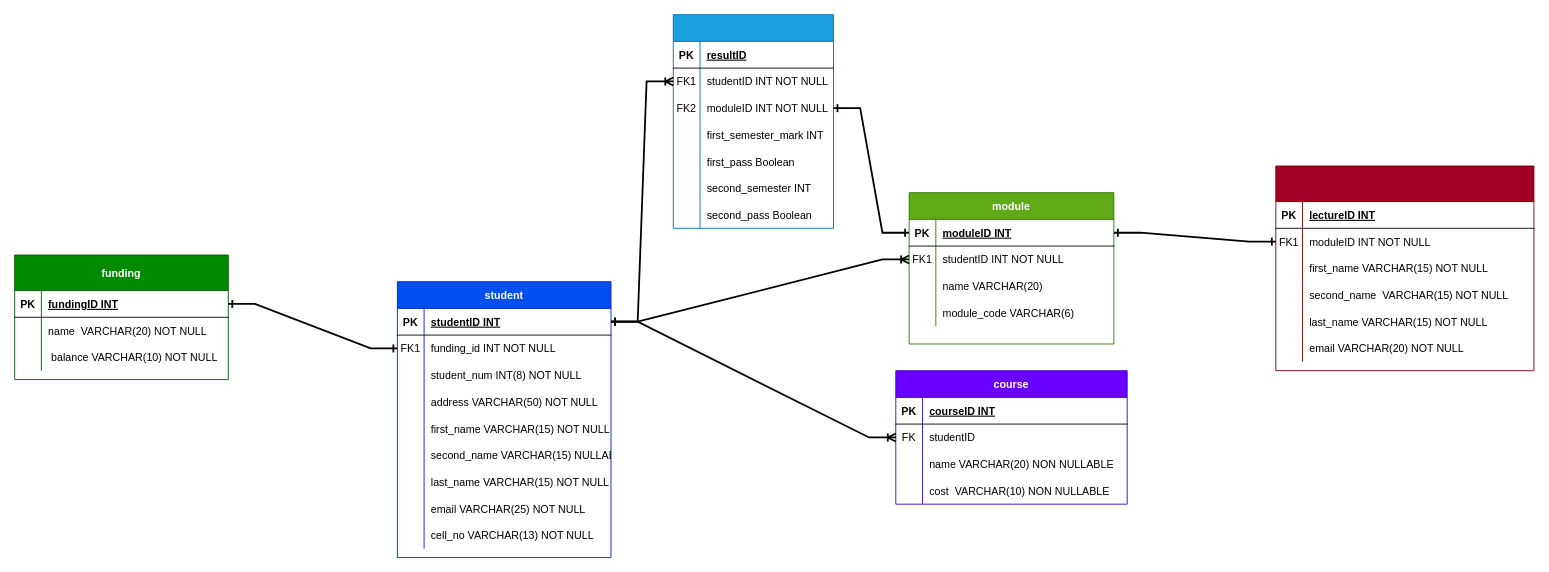
The diagram is 1549 pixels wide and 572 high, and some of its shapes have lost their labels. The shapes that lost their labels are listed below. From the top down, each one's box as (x1, y1, x2, y2) in pixels, then its label:
(672, 14, 833, 228): results
(1275, 165, 1534, 371): lecturer
